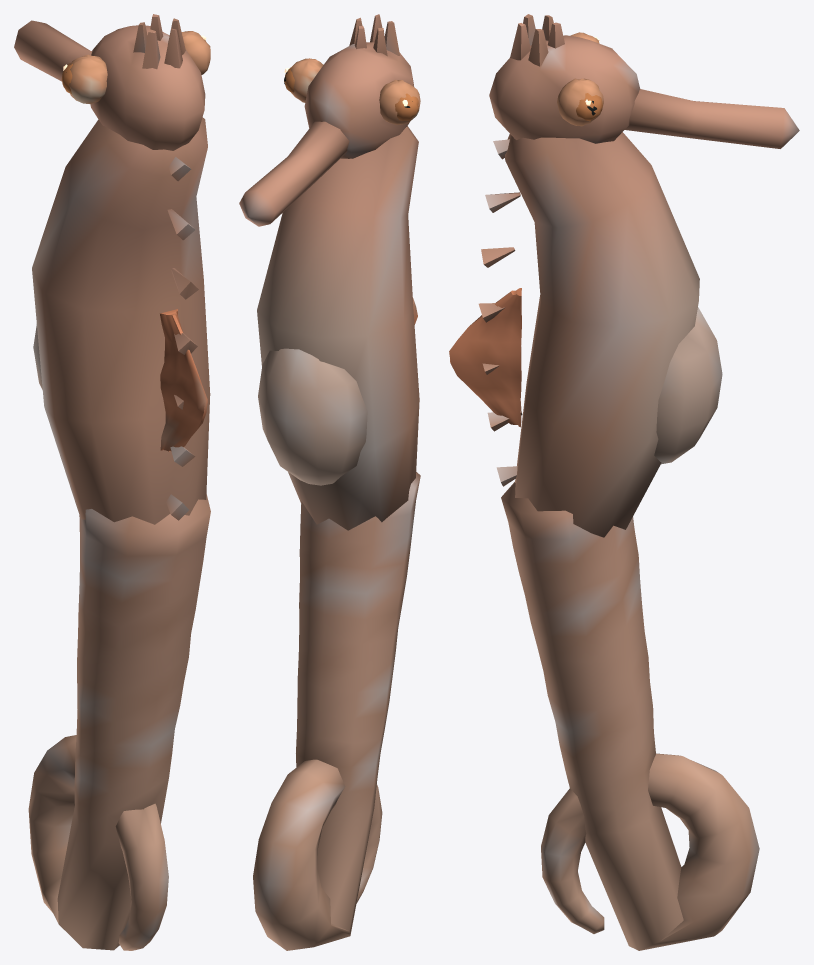
File: seahorse.glb
The picture shows the model from 3 angles, left to right: view 1: azimuth 30°, elevation 25°; view 2: azimuth 150°, elevation 25°; view 3: azimuth 270°, elevation 25°; orthographic projection. The views are drawn at different scales.
Visible parts, largest first — view 1: seahorse; view 2: seahorse; view 3: seahorse.
Boxes of the visible parts, x1=… form: seahorse: x1=14, y1=14, x2=210, y2=950; seahorse: x1=239, y1=14, x2=420, y2=950; seahorse: x1=449, y1=14, x2=799, y2=950.
Size of the model in its own units: 0.0924 by 0.5647 by 0.1943.
